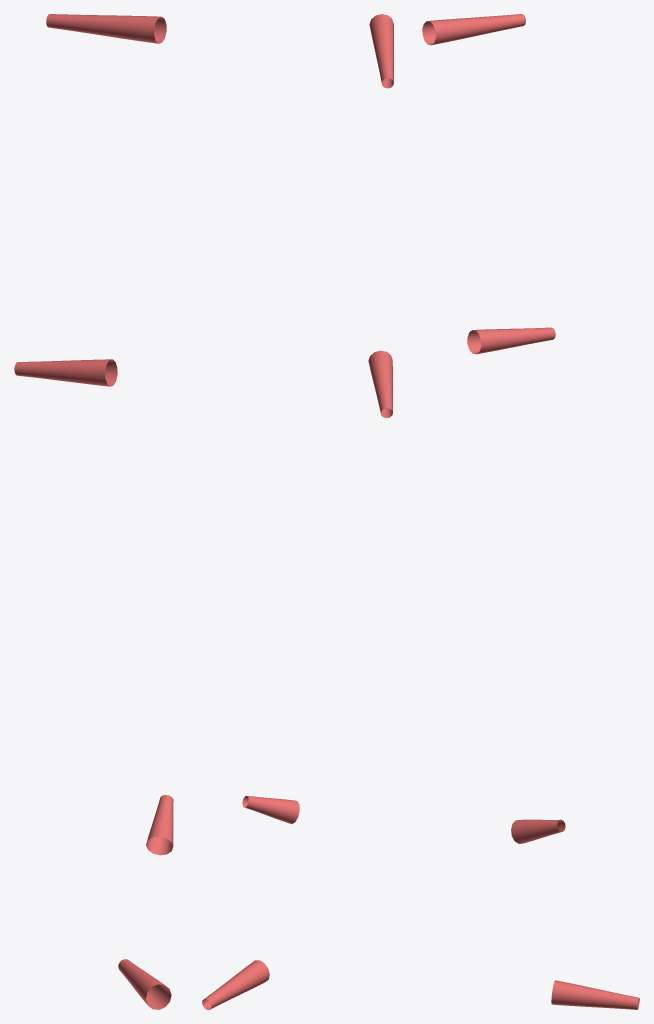
The model's file is Perforating_femoral_arteries.r_BezierCurve.450.glb.
The picture shows the model from 3 angles, left to right: view 1: azimuth 30°, elevation 25°; view 2: azimuth 150°, elevation 25°; view 3: azimuth 270°, elevation 25°; orthographic projection. The views are drawn at different scales.
Visible parts, largest first — view 1: Perforating_femoral_arteries.r_BezierCurve.450; view 2: Perforating_femoral_arteries.r_BezierCurve.450; view 3: Perforating_femoral_arteries.r_BezierCurve.450.
Part boxes in pixels (box(x1,y1,x2,y2)): Perforating_femoral_arteries.r_BezierCurve.450: box(14, 14, 173, 1009); Perforating_femoral_arteries.r_BezierCurve.450: box(202, 14, 393, 1009); Perforating_femoral_arteries.r_BezierCurve.450: box(422, 14, 639, 1009).
Bounding box in the file's own units: 0.0278 × 0.1697 × 0.0351.
